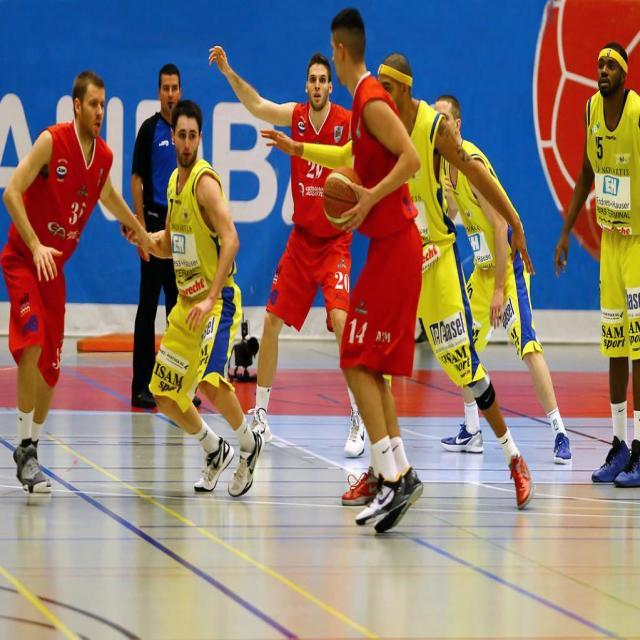rim: (324, 168, 362, 227)
